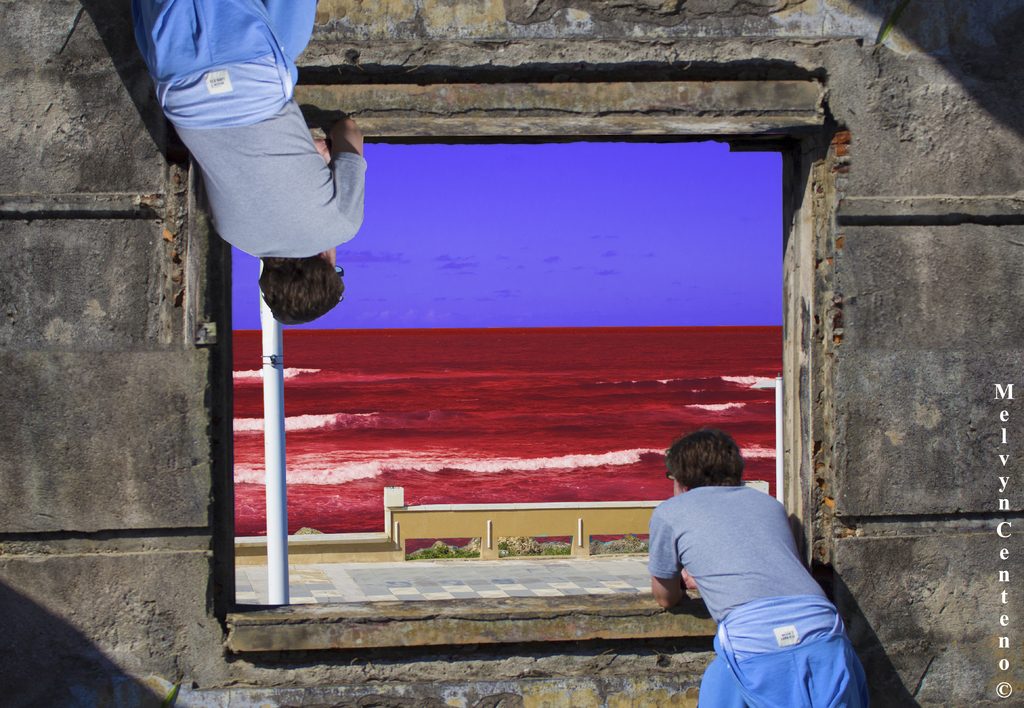Human_hand: (316, 141, 334, 168), (682, 567, 699, 593)
